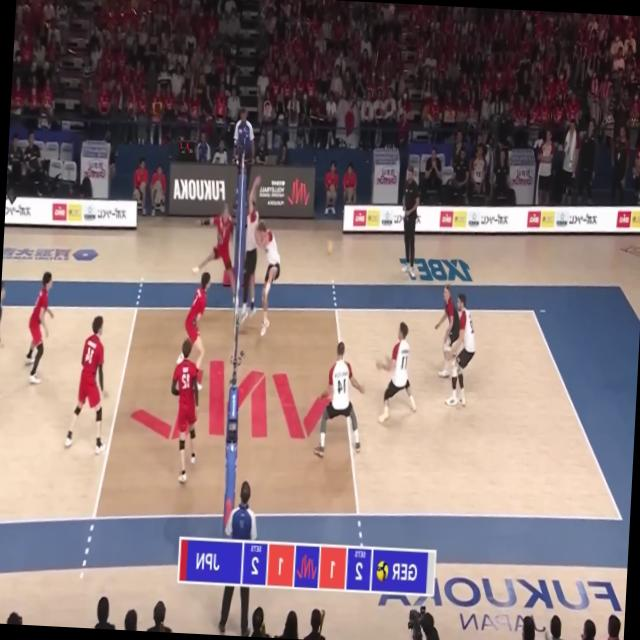referee: (216, 478, 262, 634)
team_one: (313, 342, 368, 461), (372, 320, 422, 428), (237, 174, 265, 327), (445, 294, 479, 408), (252, 220, 284, 338), (432, 286, 462, 376)
team_two: (62, 312, 116, 457), (166, 338, 203, 484), (192, 202, 240, 306), (22, 270, 58, 386), (182, 268, 213, 389), (0, 280, 8, 404)
